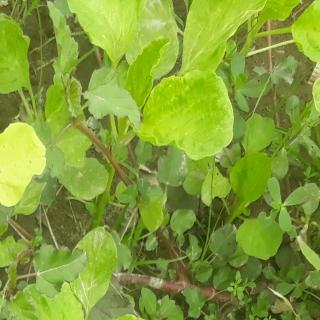kekurangan_mangan: (0, 119, 47, 210)
virus_keriting: (143, 70, 235, 162), (0, 12, 29, 93)
